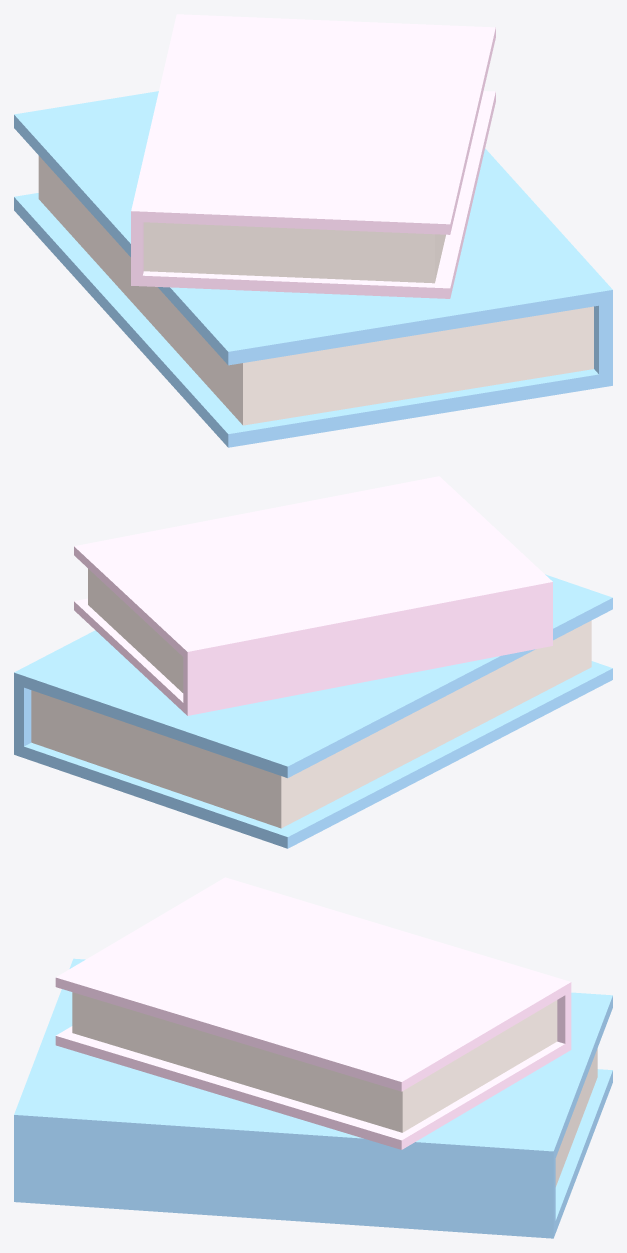
The model's file is BookPile1.glb.
3 views of the same model, one above another, from view 1: azimuth 30°, elevation 25°; view 2: azimuth 150°, elevation 25°; view 3: azimuth 270°, elevation 25° (orthographic). The views are drawn at different scales.
Parts seen in each view (by area): view 1: BookPile1; view 2: BookPile1; view 3: BookPile1.
Part boxes in pixels (left/top/right/bottom): BookPile1: left=14, top=14, right=612, bottom=447; BookPile1: left=14, top=476, right=612, bottom=848; BookPile1: left=14, top=877, right=612, bottom=1238.
Size of the model in its own units: 0.3593 by 0.1329 by 0.4441.
1 material, 1 textured.
